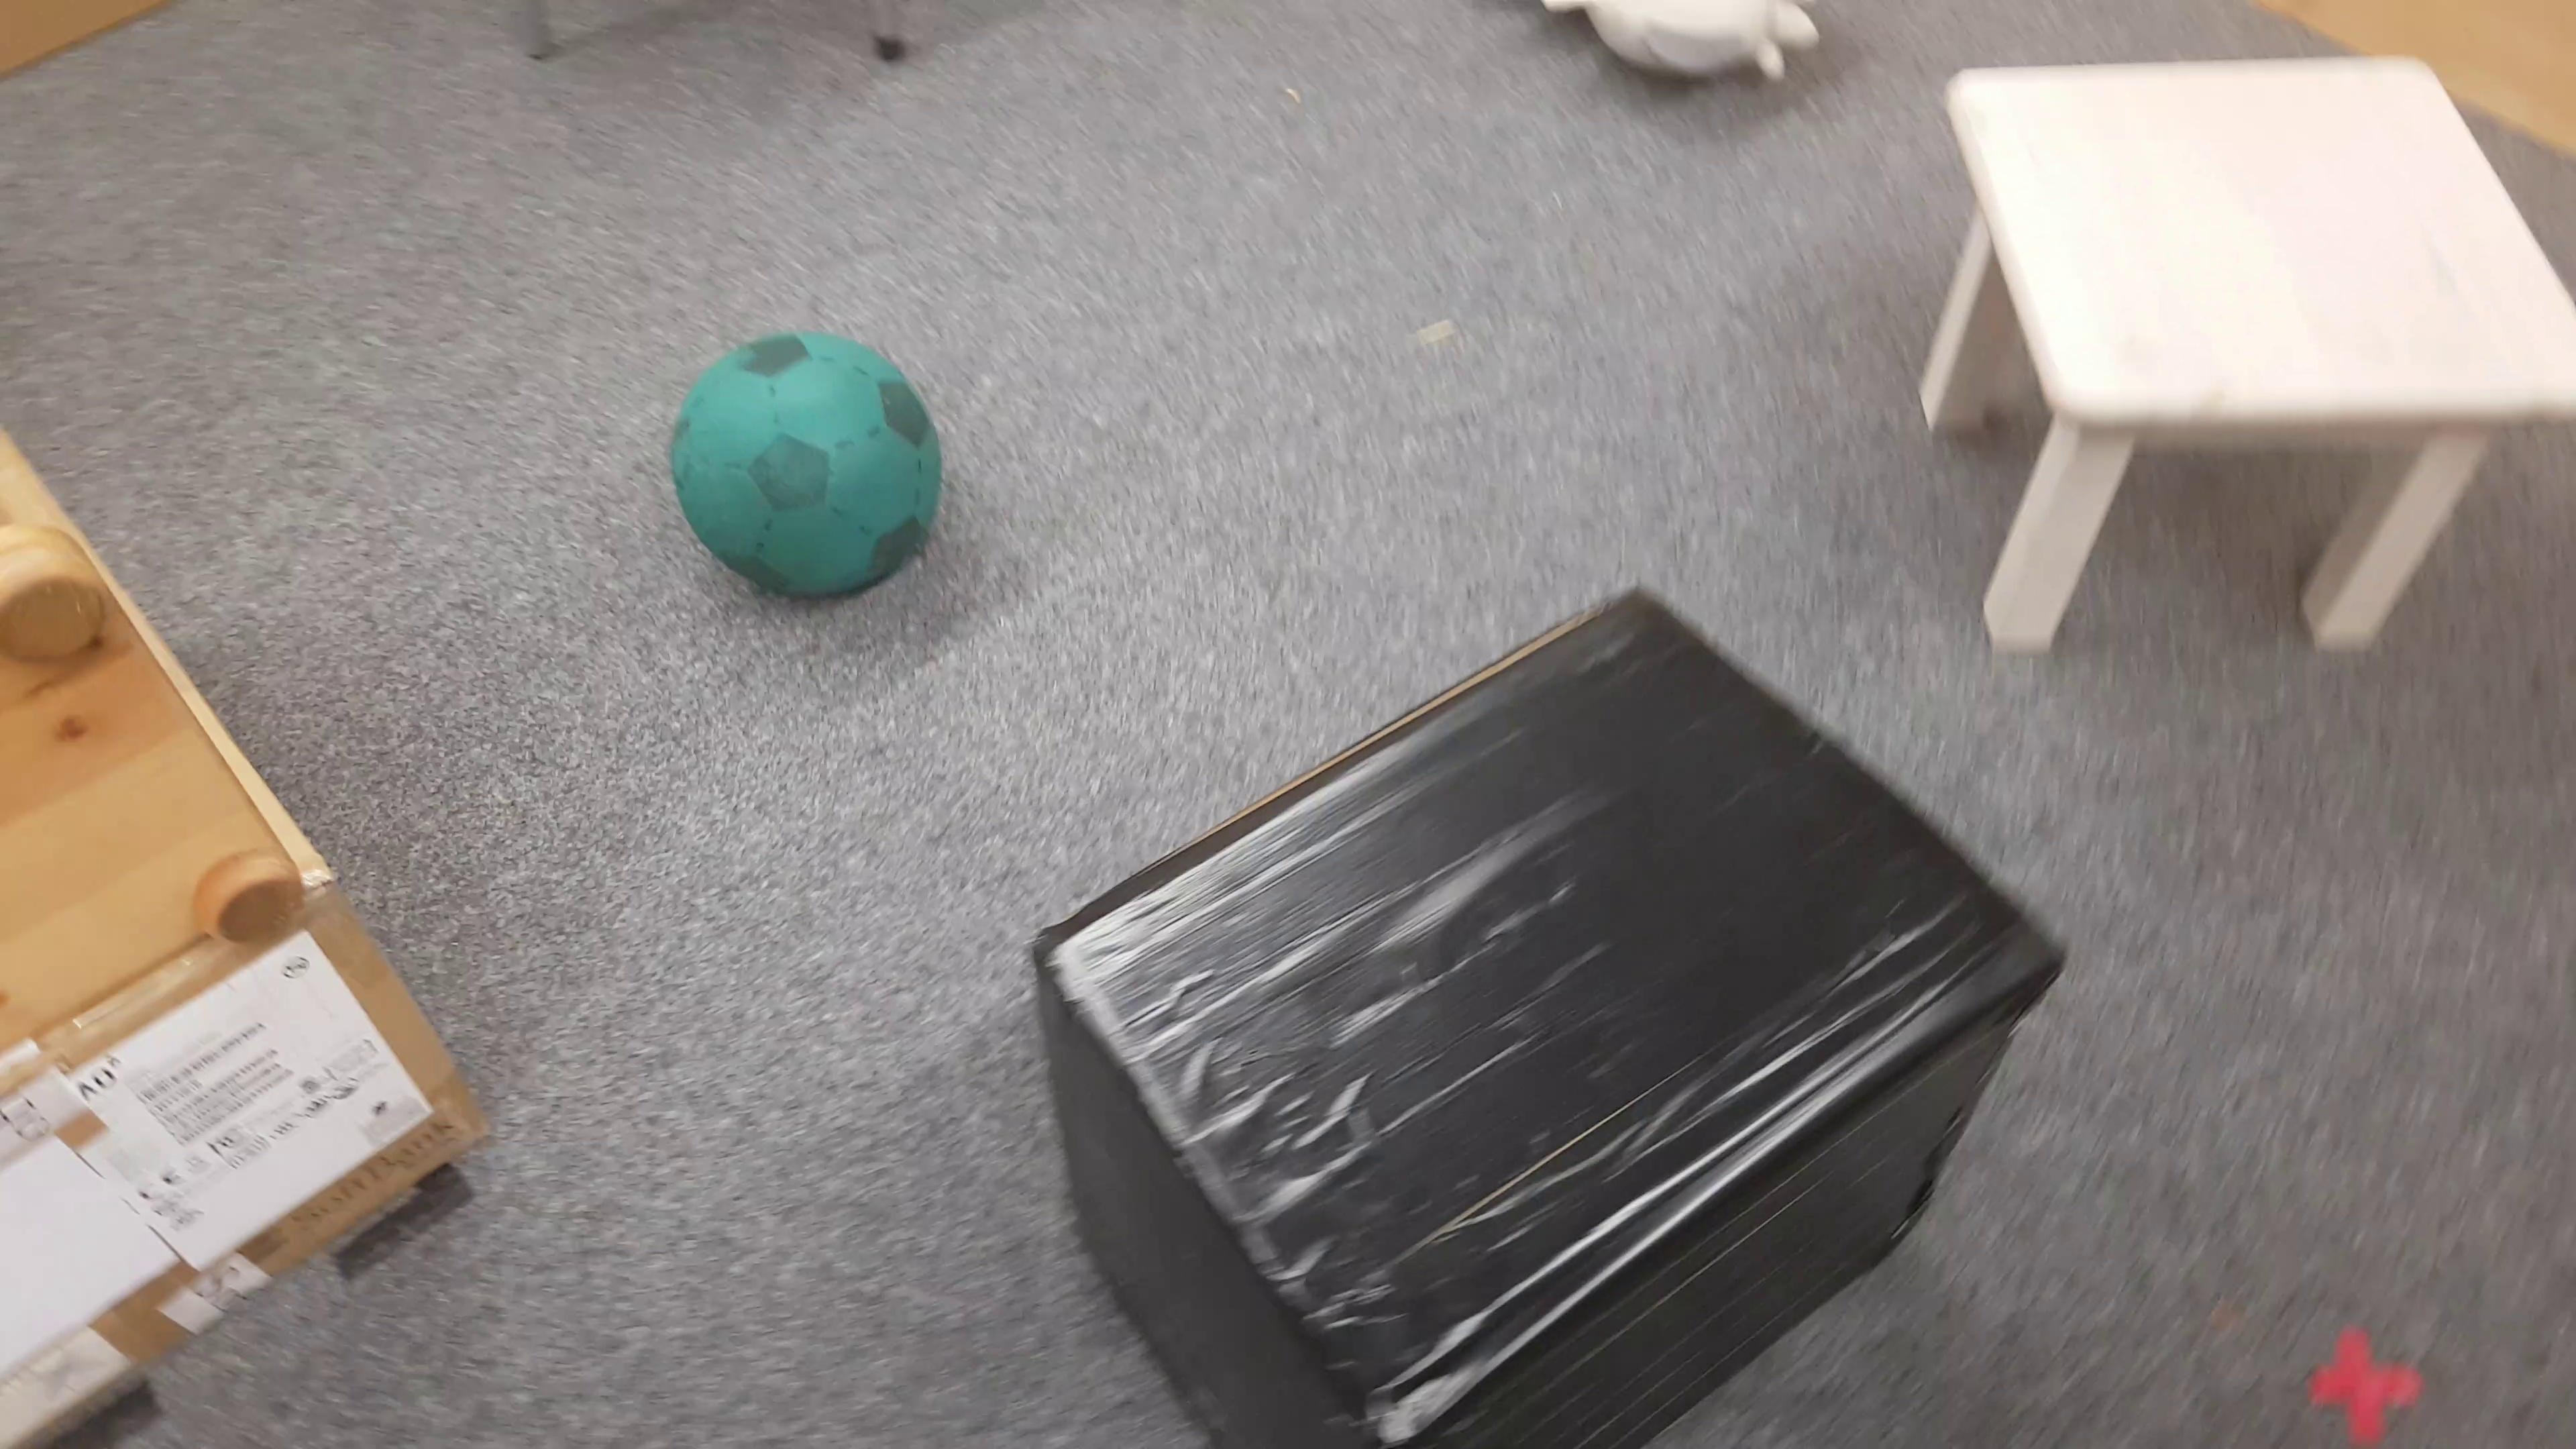grasp: (1532, 0, 1824, 97)
kick: (667, 340, 938, 596)
push: (1030, 591, 2074, 1449)
